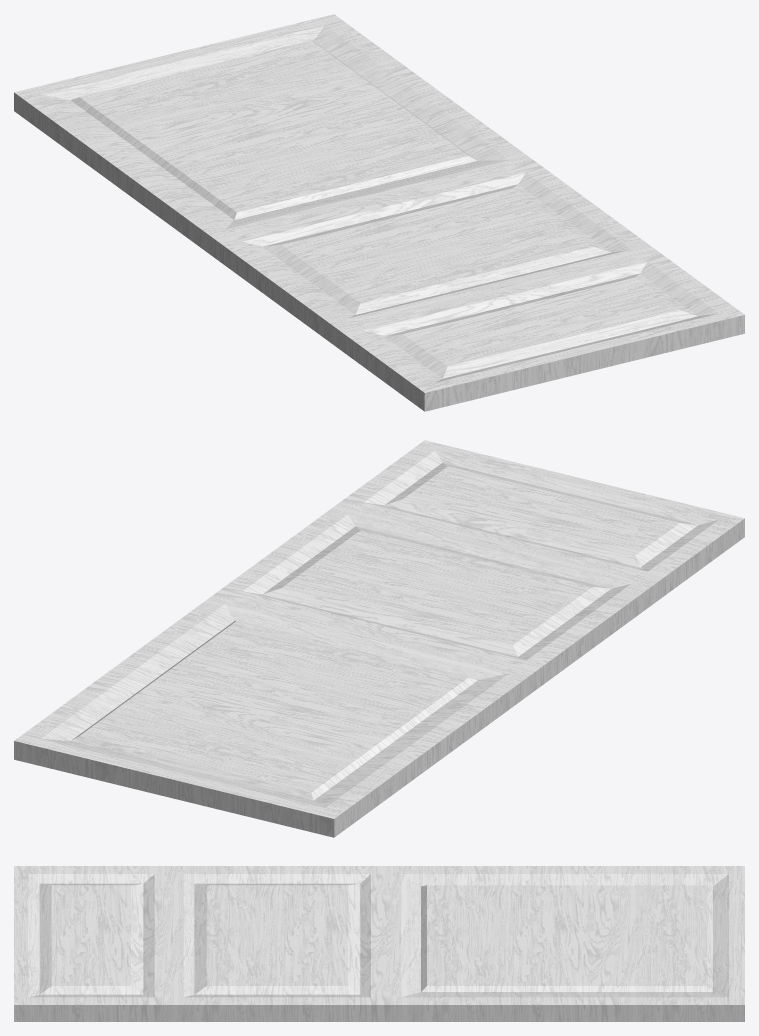
File: MeshDoorwayDoor_8_0.obj
3 views of the same model, one above another, from view 1: azimuth 30°, elevation 25°; view 2: azimuth 150°, elevation 25°; view 3: azimuth 270°, elevation 25° (orthographic). The views are drawn at different scales.
Visible parts, largest first — view 1: DoorwayDoor_8; view 2: DoorwayDoor_8; view 3: DoorwayDoor_8.
Boxes of the visible parts, box(x1,y1,x2,y2) form: DoorwayDoor_8: box(14, 14, 744, 411); DoorwayDoor_8: box(14, 440, 744, 837); DoorwayDoor_8: box(14, 866, 744, 1021).
Size of the model in its own units: 0.9144 by 0.0513 by 2.03.
Materials: 1 (1 with a texture image).
